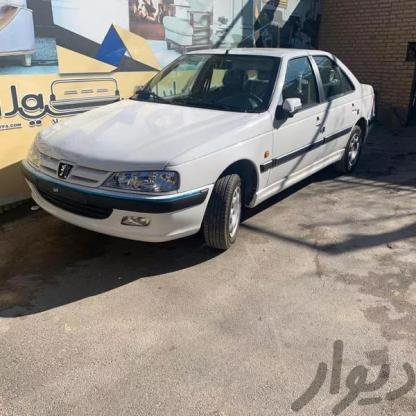Car: (17, 37, 389, 283)
